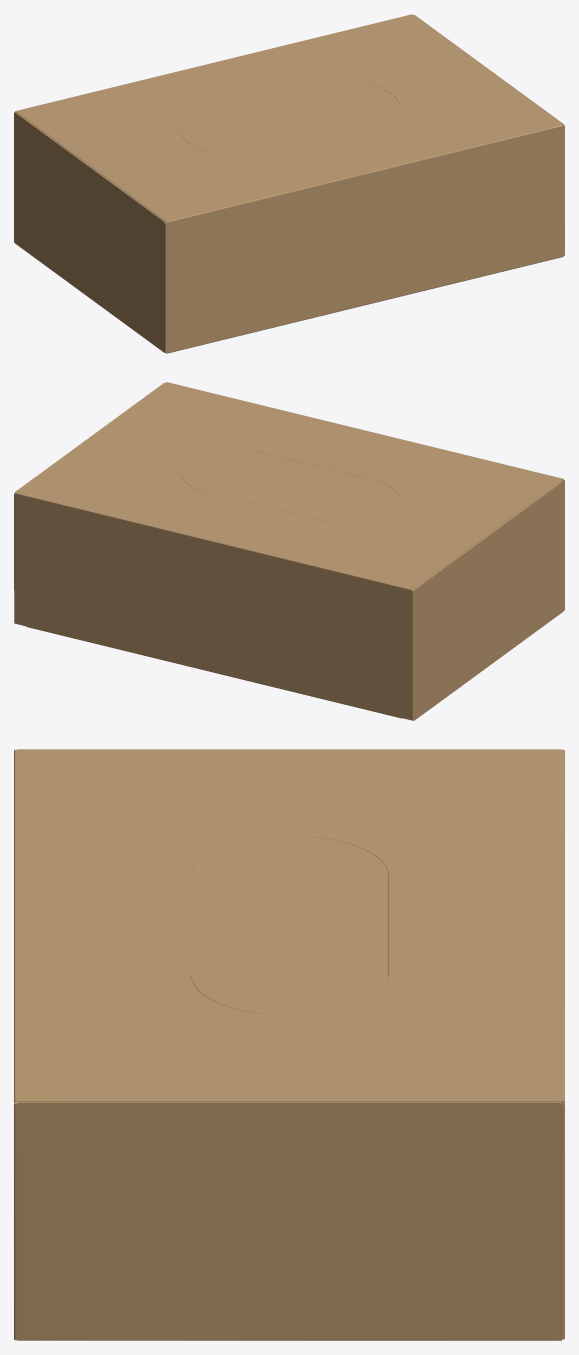
Rendered from box_glove_a01.glb.
3 renders of one model, top to bottom at view 1: azimuth 30°, elevation 25°; view 2: azimuth 150°, elevation 25°; view 3: azimuth 270°, elevation 25°, orthographic. The views are drawn at different scales.
Size of the model in its own units: 0.1782 by 0.0562 by 0.1172.
